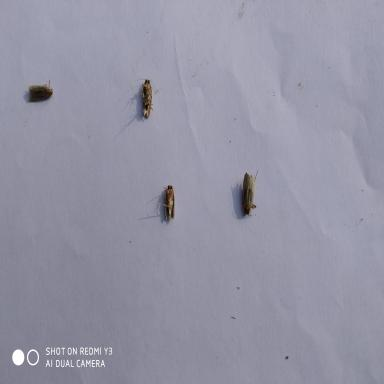pbw: (230, 165, 265, 223), (132, 72, 160, 124), (151, 182, 182, 228), (20, 74, 57, 108)
